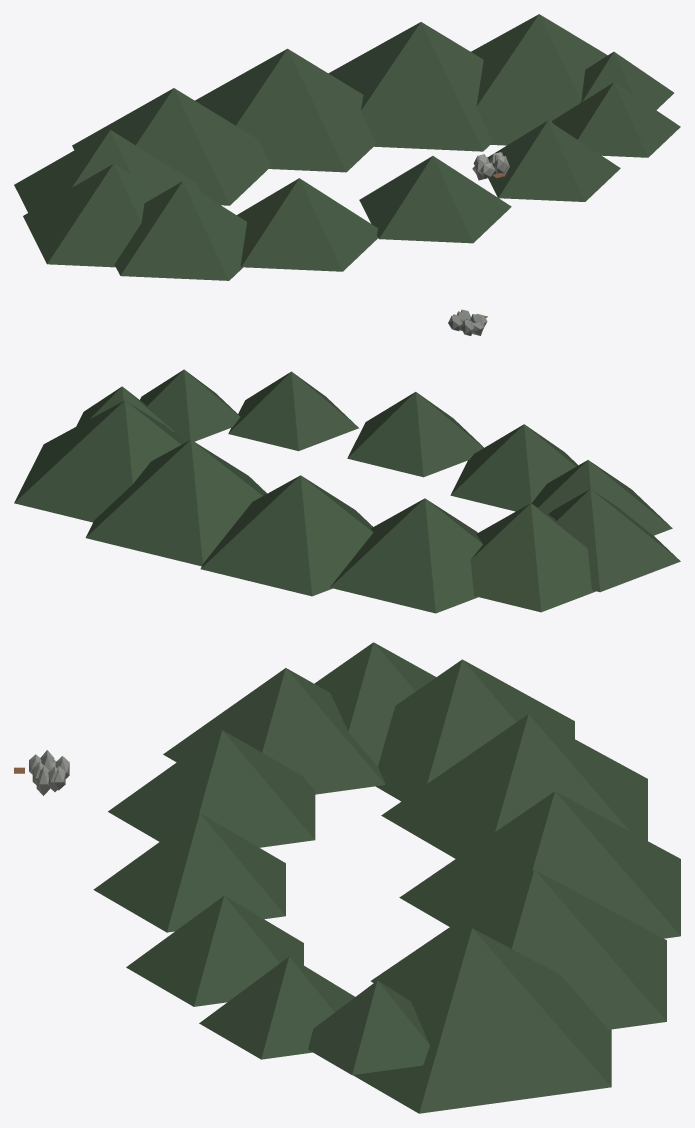
File: yeonjudae-proxy-lod1.glb
3 views of the same model, one above another, from view 1: azimuth 30°, elevation 25°; view 2: azimuth 150°, elevation 25°; view 3: azimuth 270°, elevation 25° (orthographic). The views are drawn at different scales.
Parts seen in each view (by area): view 1: forest, ridge; view 2: forest, ridge; view 3: forest, ridge.
Boxes of the visible parts, <box> form: forest: <box>14,14,680,280</box>; ridge: <box>472,152,509,180</box>; forest: <box>14,369,680,613</box>; ridge: <box>448,309,487,335</box>; forest: <box>93,642,680,1113</box>; ridge: <box>29,750,69,795</box>.
Bounding box in the file's own units: 364 × 61.45 × 244.
